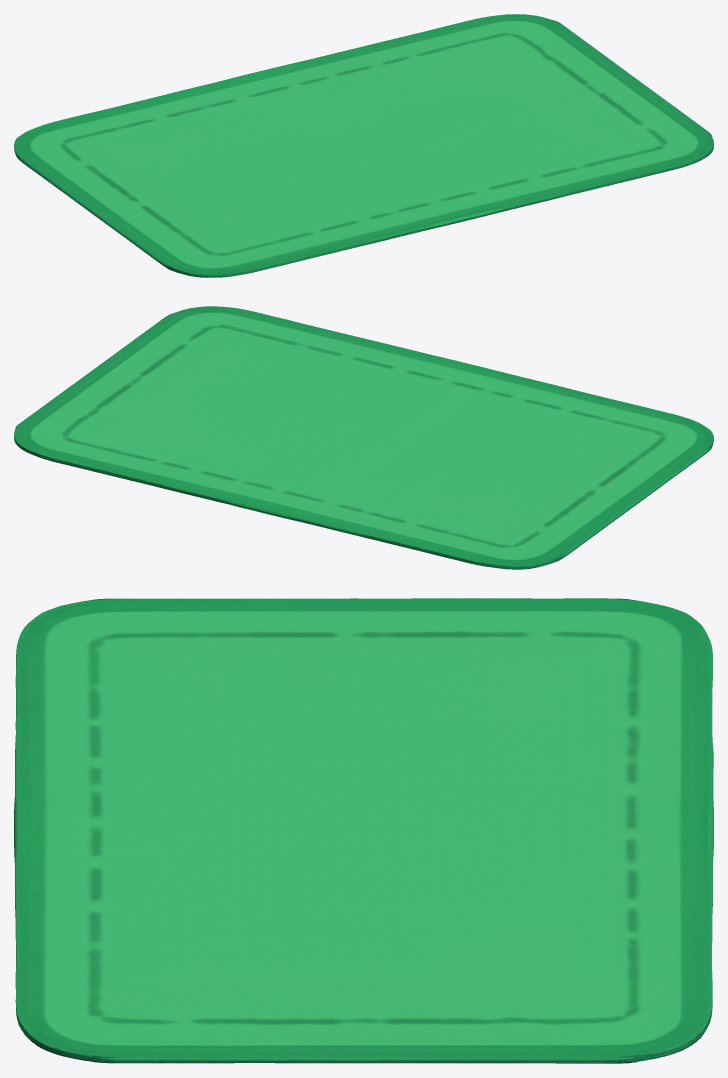
The picture shows the model from 3 angles, top to bottom: view 1: azimuth 30°, elevation 25°; view 2: azimuth 150°, elevation 25°; view 3: azimuth 270°, elevation 25°; orthographic projection. The views are drawn at different scales.
Parts seen in each view (by area): view 1: world.001; view 2: world.001; view 3: world.001.
Part boxes in pixels (bbox=[...]): world.001: bbox=[14, 14, 713, 277]; world.001: bbox=[14, 306, 713, 569]; world.001: bbox=[14, 598, 713, 1063].
Bounding box in the file's own units: 100 × 0.8947 × 64.29.
1 material, 1 textured.
